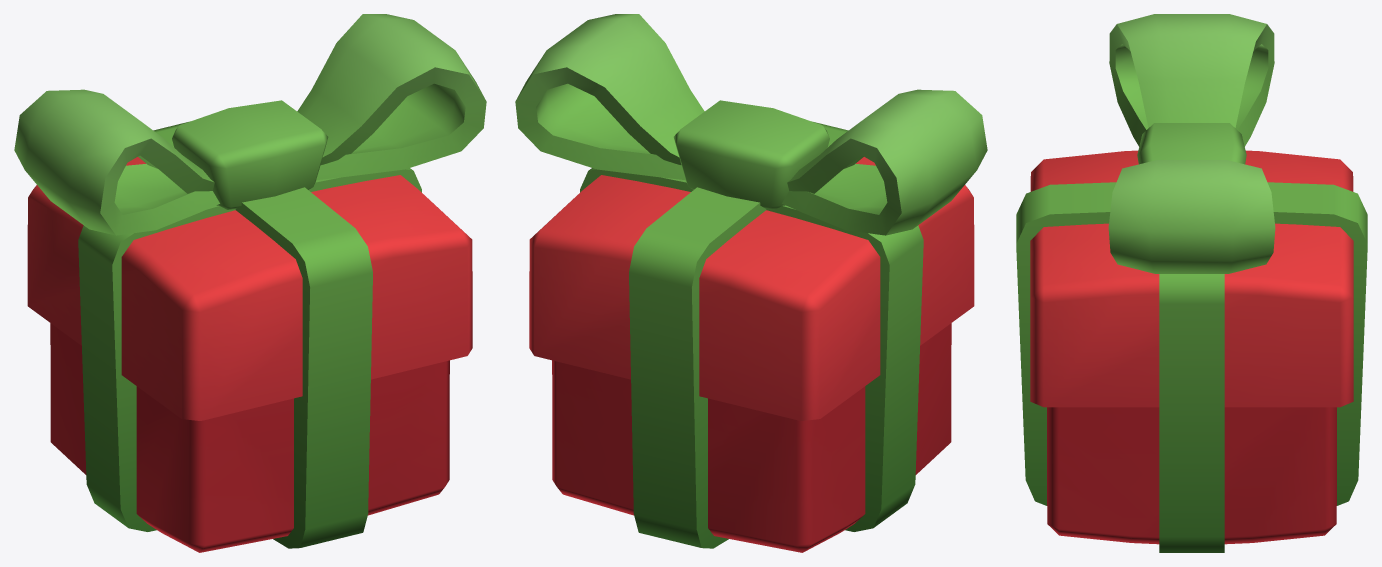
File: Present_003.glb
The picture shows the model from 3 angles, left to right: view 1: azimuth 30°, elevation 25°; view 2: azimuth 150°, elevation 25°; view 3: azimuth 270°, elevation 25°; orthographic projection. The views are drawn at different scales.
Parts seen in each view (by area): view 1: Present_003; view 2: Present_003; view 3: Present_003.
Boxes of the visible parts, <box> form: Present_003: <box>14,14,486,552</box>; Present_003: <box>515,14,987,552</box>; Present_003: <box>1016,14,1367,552</box>.
Bounding box in the file's own units: 1.14 × 1.15 × 0.885.
1 material, 1 textured.
